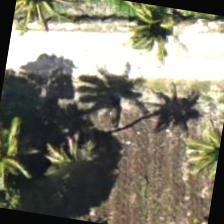Kelapa_Sawit: (106, 0, 207, 81), (0, 117, 56, 214)
